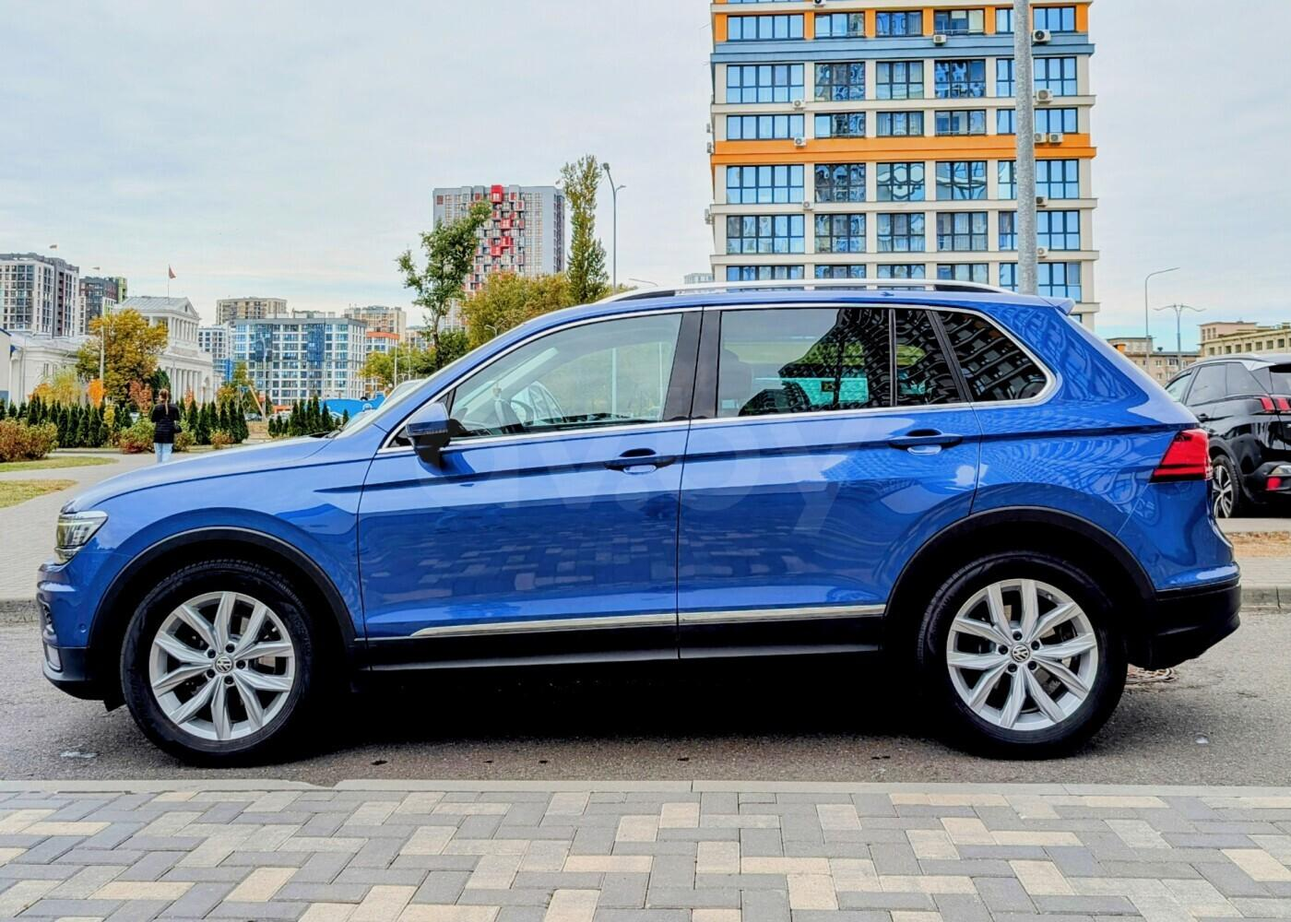Tiguan_2016-2021: (32, 281, 1239, 757)
